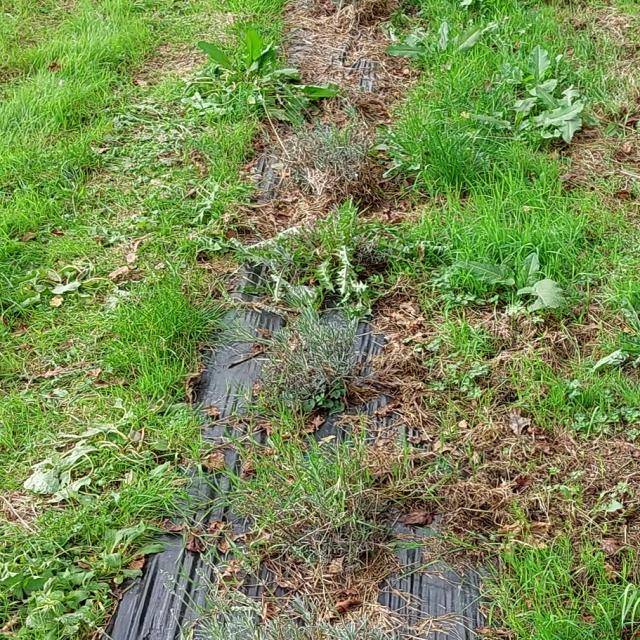organic waste: (0, 421, 162, 517), (170, 10, 318, 111), (386, 10, 530, 86), (448, 233, 561, 327), (462, 39, 584, 103), (20, 231, 110, 311), (514, 96, 618, 159)
